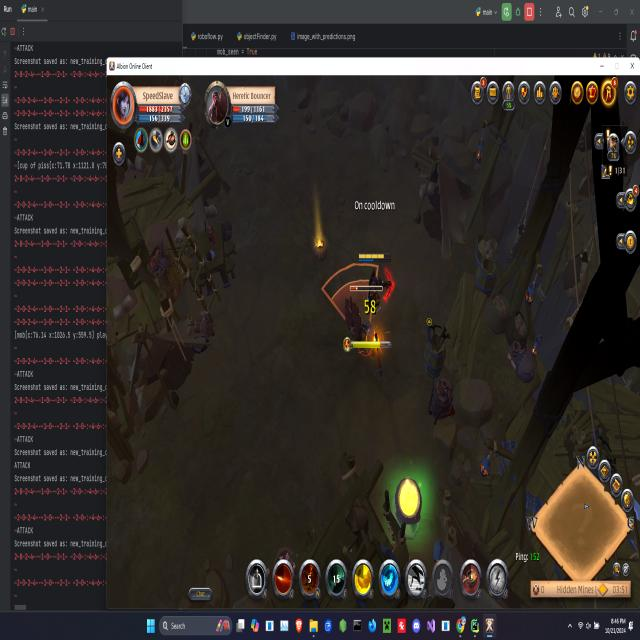fiber: (392, 474, 426, 538)
ore: (345, 278, 385, 364)
red: (360, 248, 392, 310)
silver: (322, 262, 386, 334)
